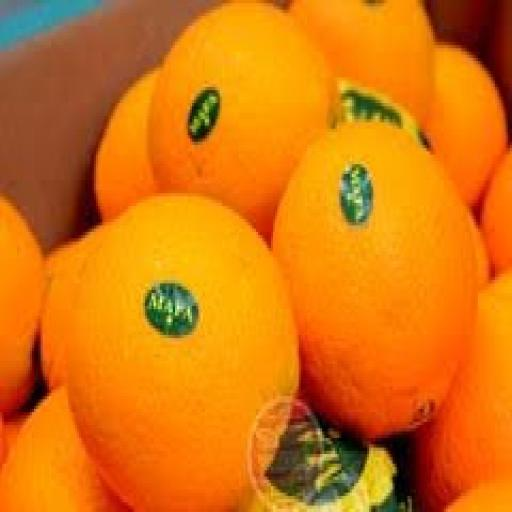orange: (69, 197, 298, 511), (274, 123, 477, 441), (414, 274, 511, 511), (0, 390, 125, 511), (425, 46, 507, 206), (41, 226, 106, 389), (0, 197, 44, 415), (94, 71, 157, 218), (331, 81, 428, 148), (483, 152, 511, 273), (446, 477, 511, 511), (470, 213, 490, 289), (5, 413, 27, 454), (0, 416, 6, 466)
